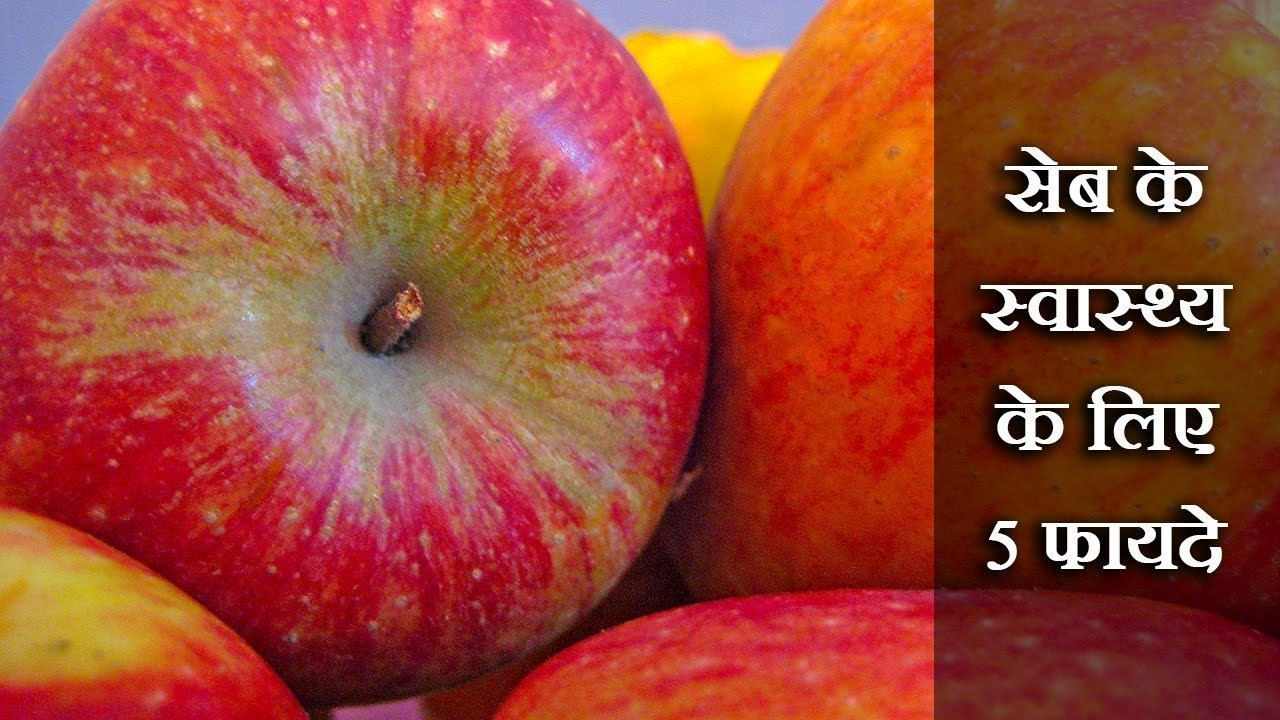apple: (23, 4, 701, 656)
